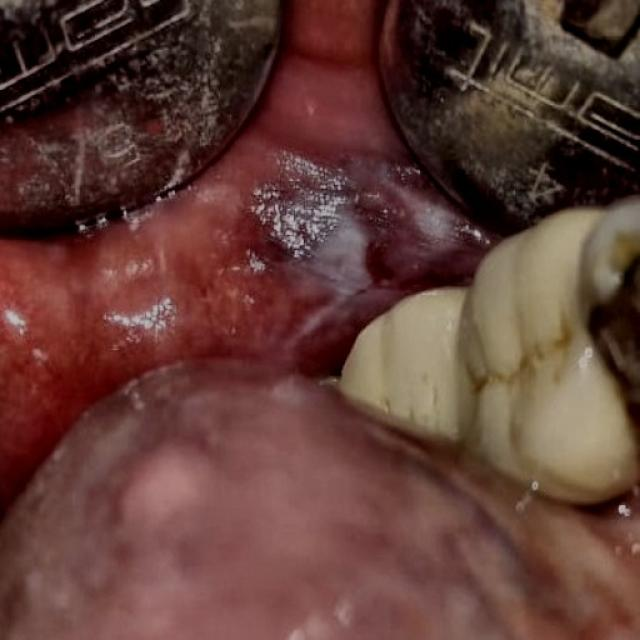cancer-detection: (177, 123, 496, 386)
processing_area: (0, 4, 639, 637)
